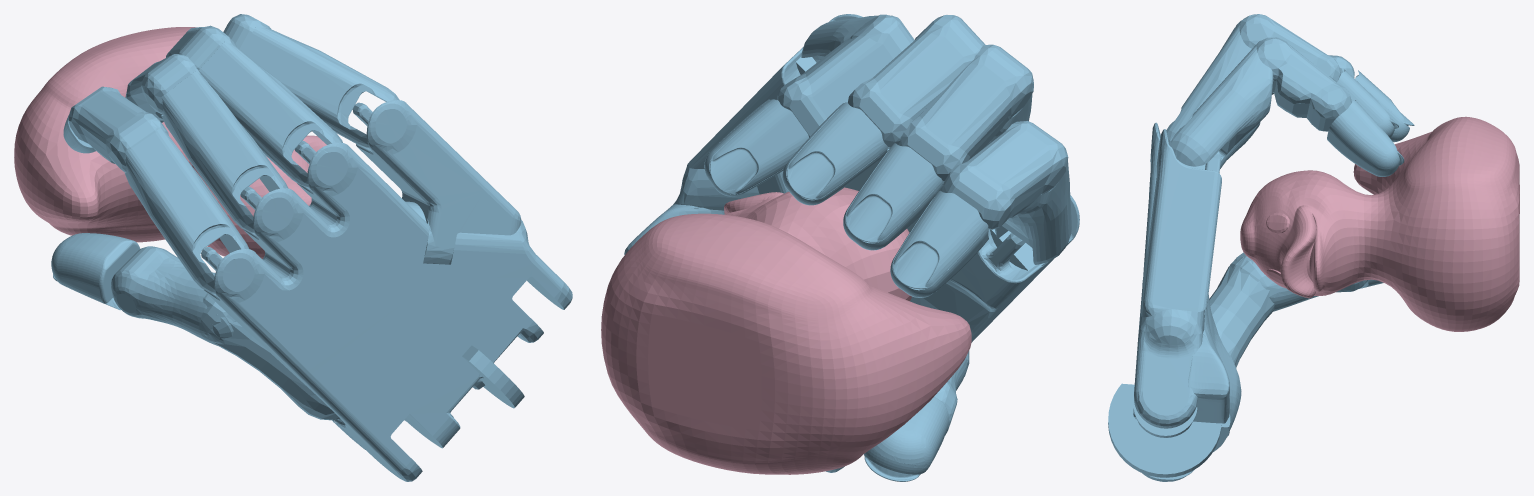
The picture shows the model from 3 angles, left to right: view 1: azimuth 30°, elevation 25°; view 2: azimuth 150°, elevation 25°; view 3: azimuth 270°, elevation 25°; orthographic projection. The views are drawn at different scales.
Parts seen in each view (by area): view 1: world; view 2: world; view 3: world.
Boxes of the visible parts, x1,y1,x2,y2 form: world: [14, 14, 572, 481]; world: [601, 14, 1079, 481]; world: [1108, 14, 1519, 481].
Bounding box in the file's own units: 0.1442 × 0.1526 × 0.1413.
